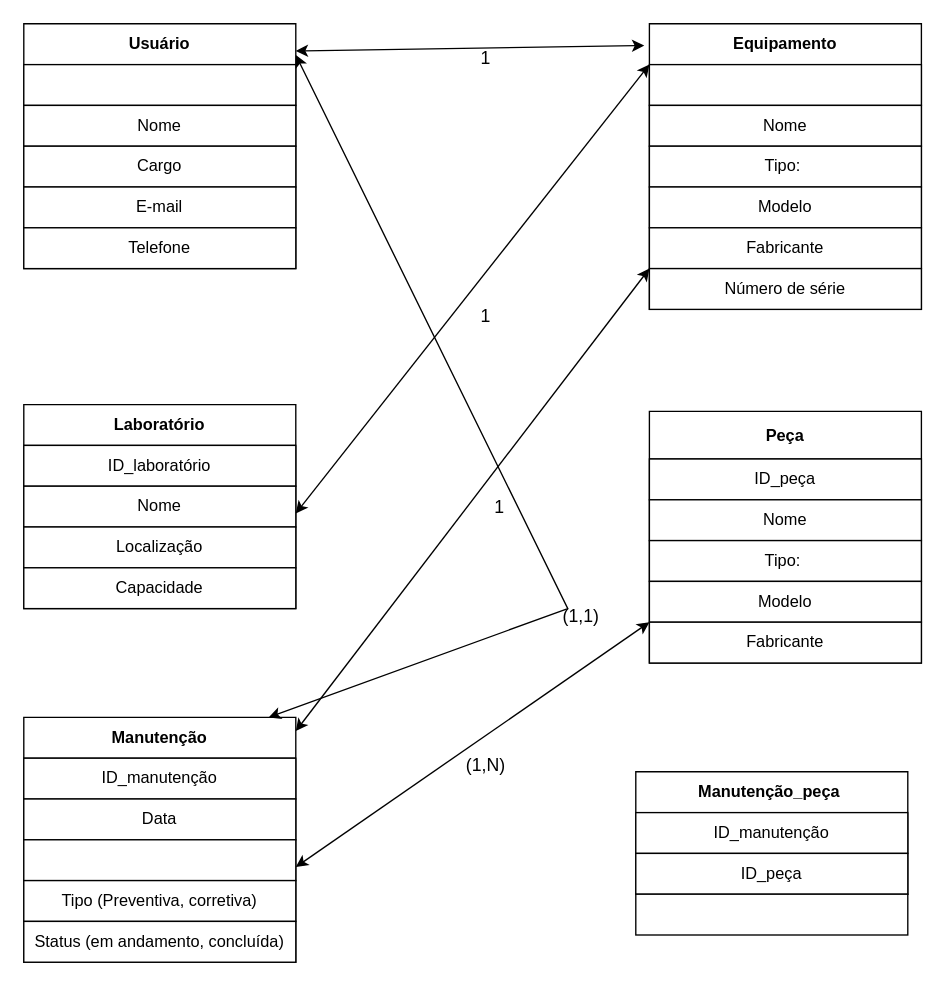
Image size: 945x986. Some labels were removed from this diagram. The shapes that lost their labels are listed below. From the top down, each one's centre as x and y in pixels, then its label:
the point at 159,84: ID_usuário
the point at 784,84: ID_equipamento
the point at 159,859: Descrição
the point at 771,914: Quantidade
